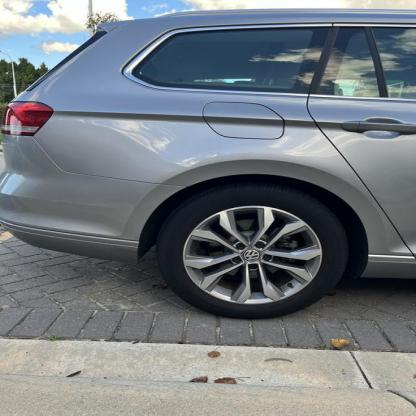Tire: (155, 184, 351, 318)
